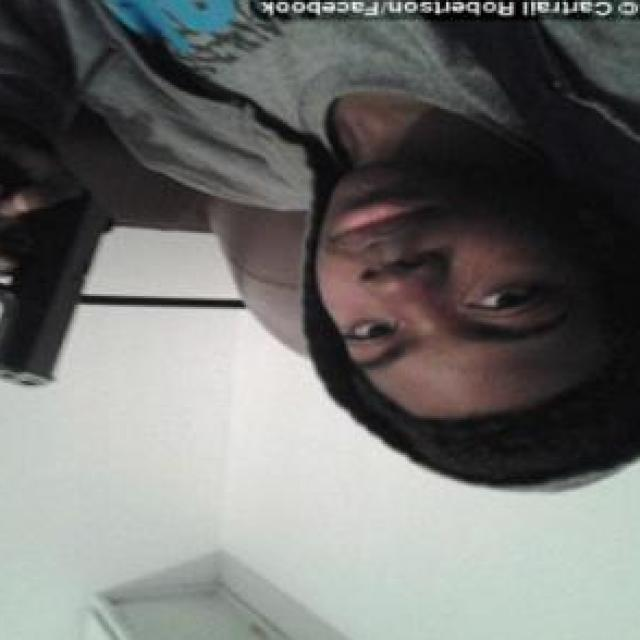pistol: (0, 176, 118, 392)
